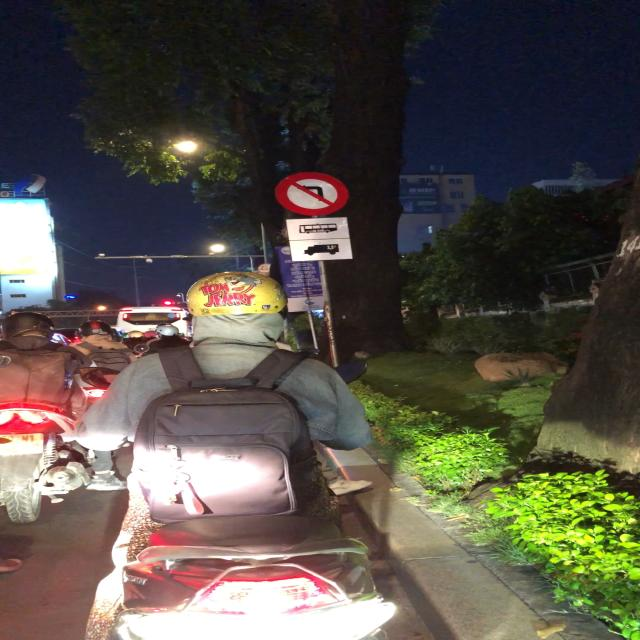Bien bao cam re trai: (272, 171, 352, 217)
